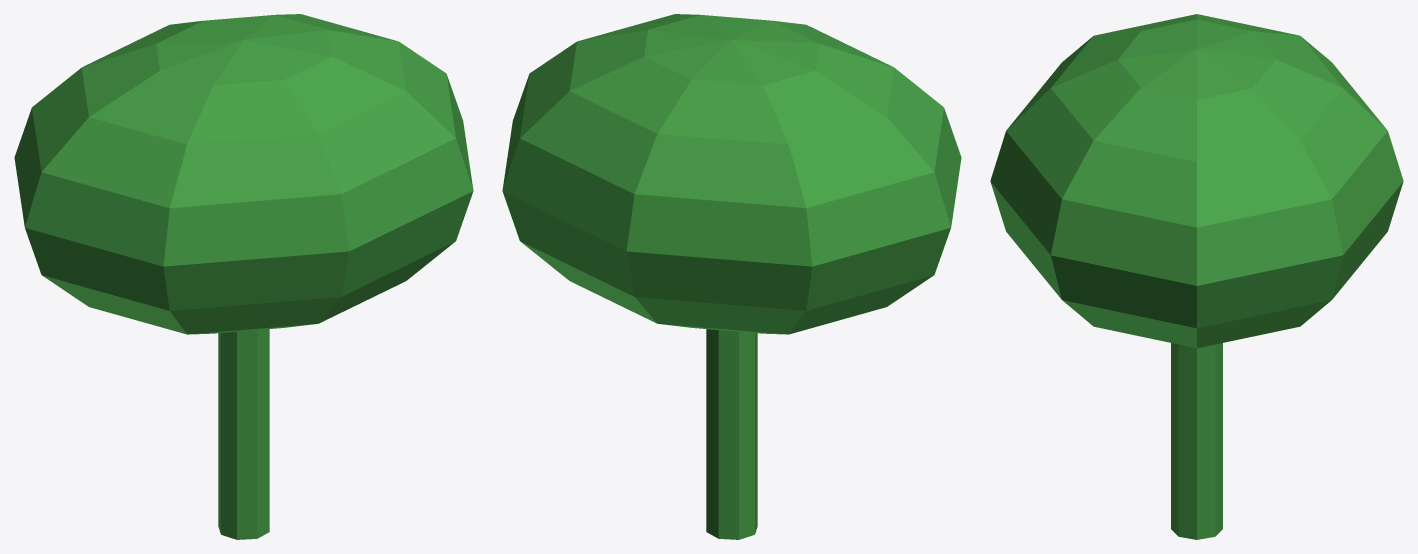
File: asset_smallbush_02.fbx
The picture shows the model from 3 angles, left to right: view 1: azimuth 30°, elevation 25°; view 2: azimuth 150°, elevation 25°; view 3: azimuth 270°, elevation 25°; orthographic projection. The views are drawn at different scales.
Visible parts, largest first — view 1: pSphere1, pCylinder1; view 2: pSphere1, pCylinder1; view 3: pSphere1, pCylinder1.
Boxes of the visible parts, bbox=[...] form: pSphere1: bbox=[14, 14, 473, 334]; pCylinder1: bbox=[218, 329, 269, 539]; pSphere1: bbox=[502, 14, 961, 334]; pCylinder1: bbox=[706, 329, 757, 539]; pSphere1: bbox=[990, 14, 1403, 348]; pCylinder1: bbox=[1171, 343, 1222, 539].
Bounding box in the file's own units: 57 × 60.77 × 47.49.
